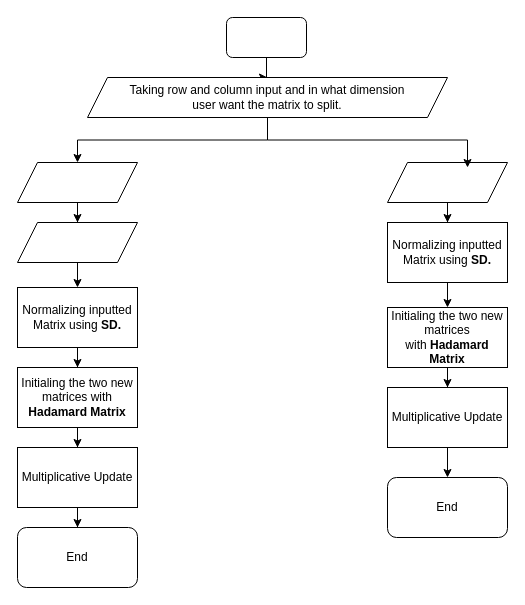
The diagram is 525 pixels wide and 605 high, and some of its shapes have lost their labels. Here are the shapes that lost their labels. From the top down, the box of each, then its label:
(226, 16, 306, 58): Start
(16, 162, 138, 202): Input range for random values
(386, 162, 508, 202): Input matrix (user input)
(16, 222, 138, 262): Input matrix (Random input)
